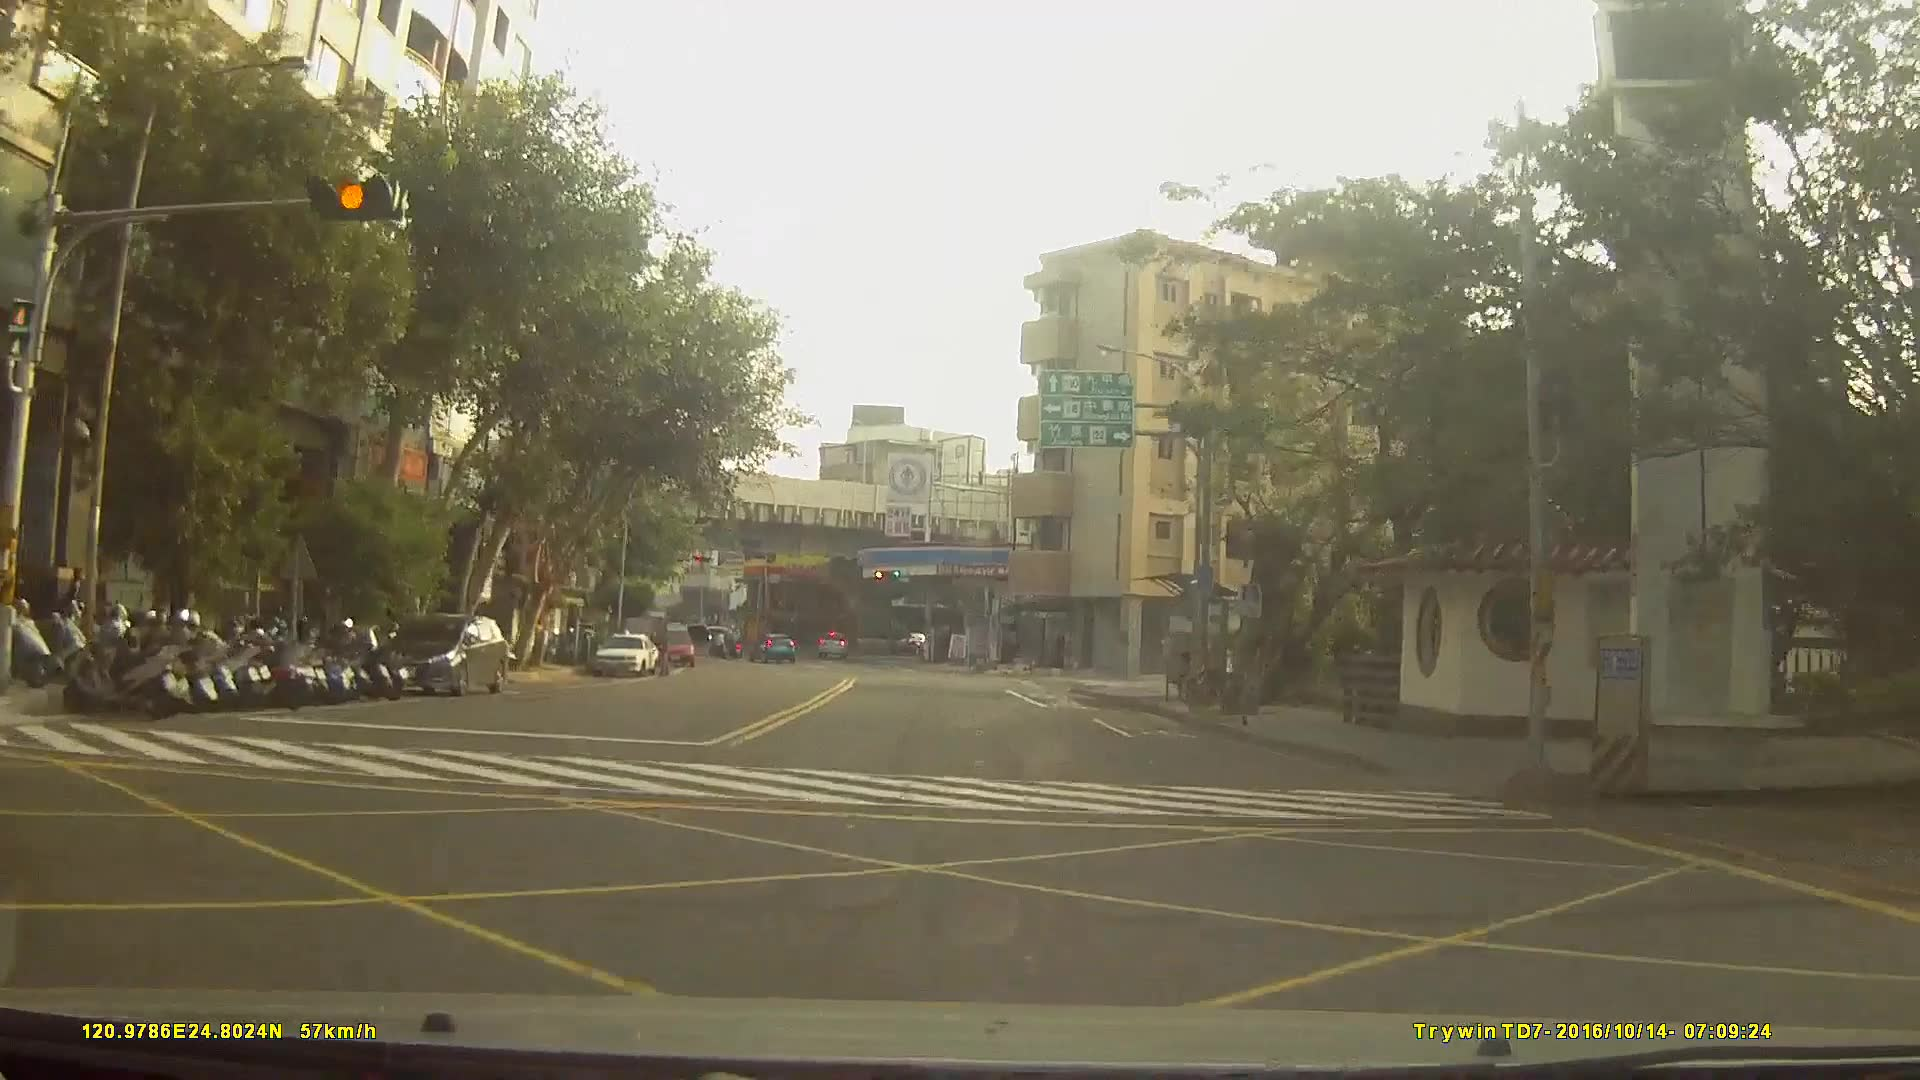vehicle: (375, 608, 512, 695), (589, 628, 659, 674), (651, 628, 695, 669), (746, 630, 794, 662), (816, 629, 852, 657)
